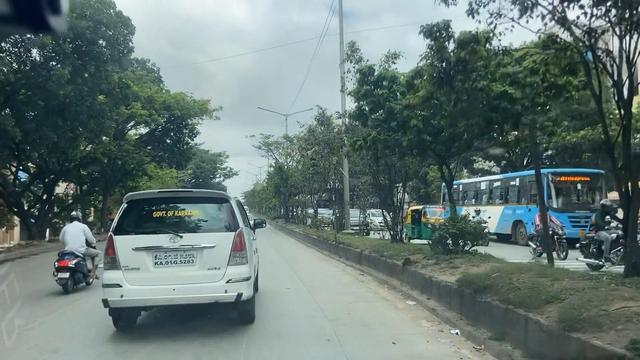LMV: (43, 203, 103, 299)
